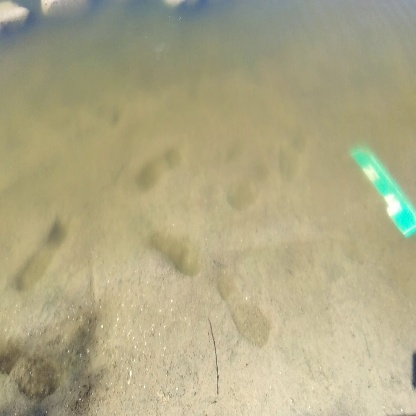plastic-garbage: (344, 139, 416, 243)
